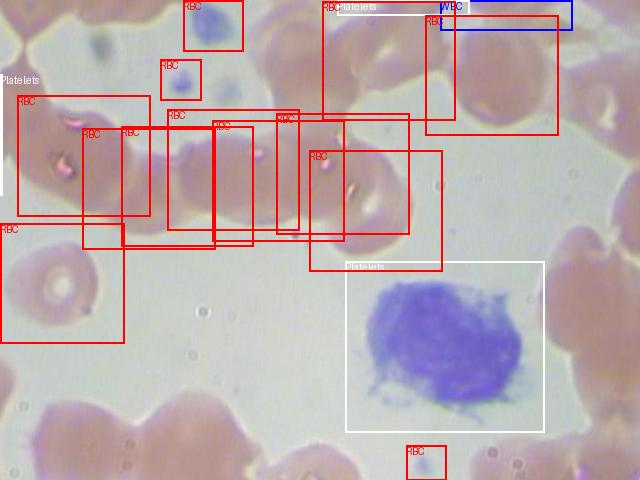Platelets: (345, 261, 544, 432), (337, 0, 469, 15), (0, 74, 2, 195)
RBC: (309, 150, 442, 271), (276, 113, 409, 234), (82, 128, 215, 249), (17, 95, 150, 216), (212, 120, 344, 241), (167, 109, 299, 230), (425, 15, 558, 135), (121, 126, 253, 246), (322, 1, 455, 120), (0, 223, 124, 343), (183, 0, 243, 51), (160, 59, 201, 100), (406, 445, 446, 480)
WBC: (440, 0, 572, 30)
